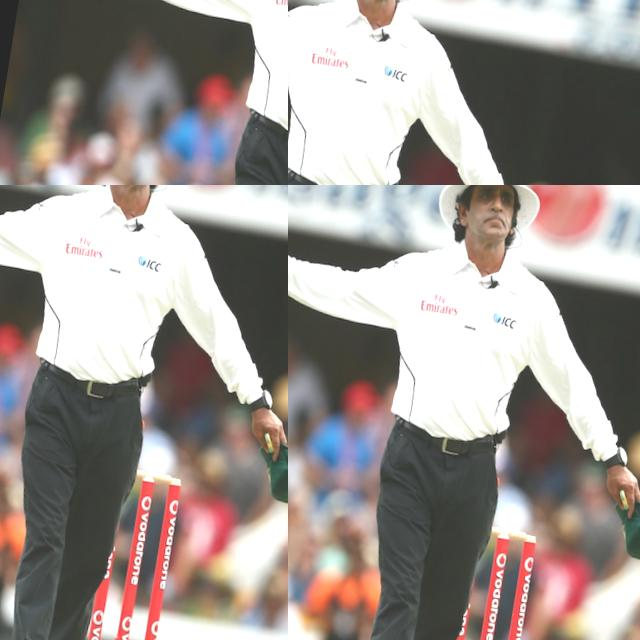No_Ball: (288, 185, 640, 640)
Out: (0, 185, 86, 361)
Wide: (288, 0, 435, 185), (17, 0, 184, 90)
